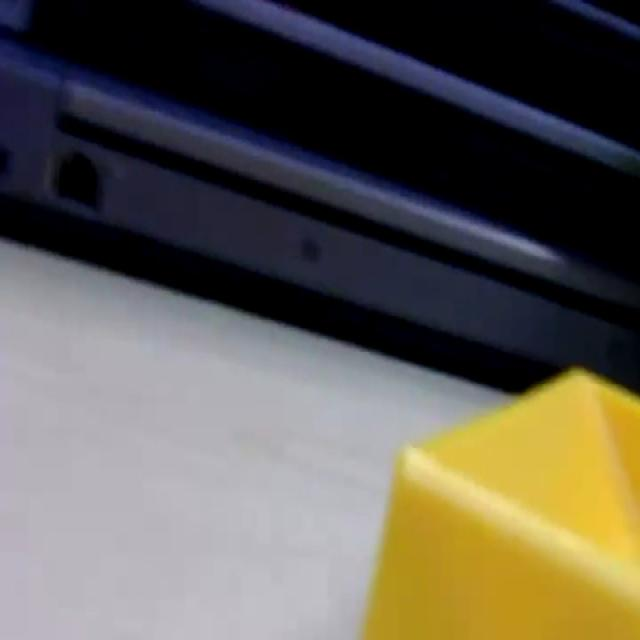yellow_block: (360, 364, 639, 637)
